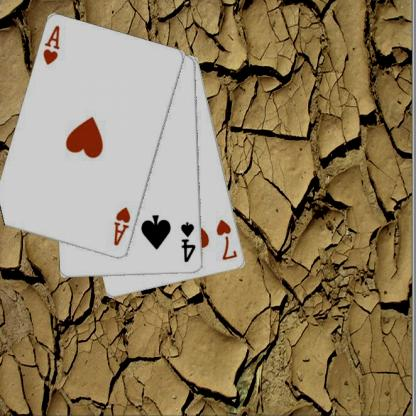4S: (178, 220, 198, 264)
7H: (214, 217, 238, 262)
AH: (40, 22, 62, 66), (111, 204, 132, 248)
